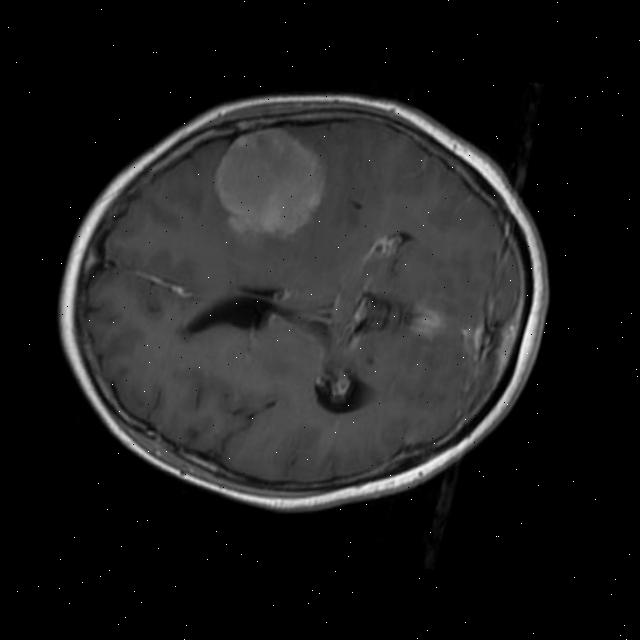Meningioma: (196, 112, 340, 253)
